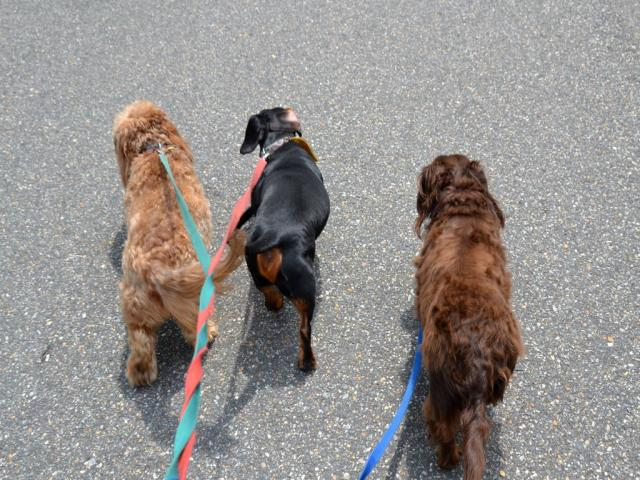Dog: (107, 97, 247, 389), (404, 155, 524, 479), (235, 103, 333, 374)
